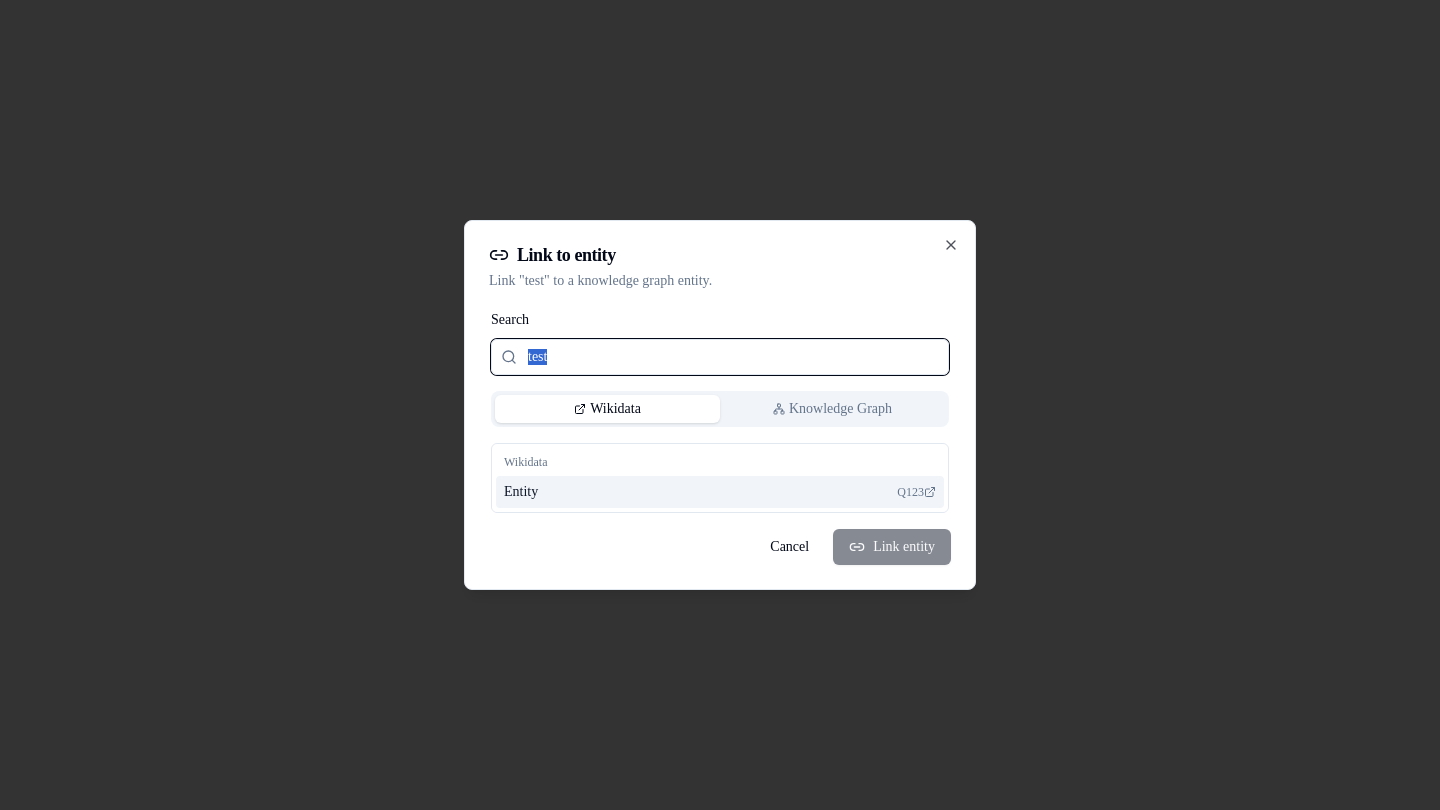
Test case: EntityLinkDialog › buttons › enables Link button after selection
Click the text "Entity" at (521, 492), box [504, 484, 538, 499]
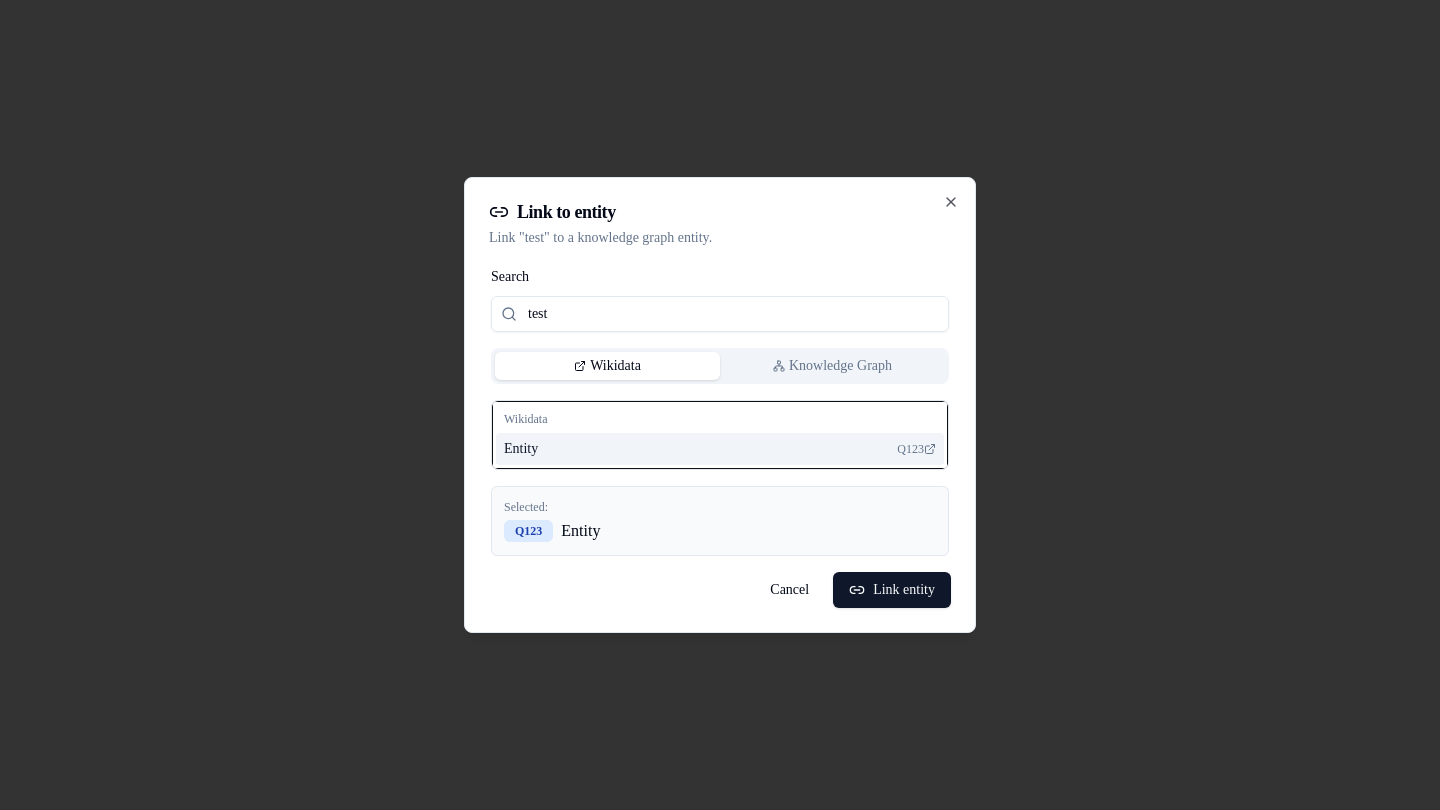
Check: the button "Link entity" is enabled, box [833, 572, 951, 608]
